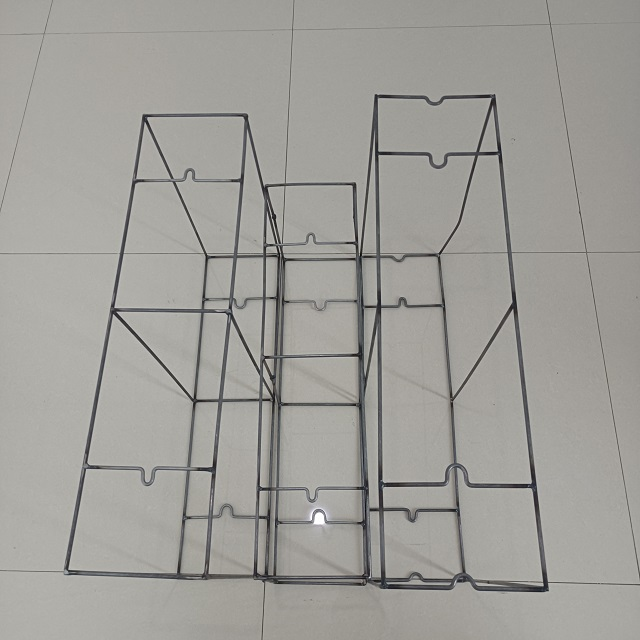curvedhole: (431, 460, 495, 491), (123, 457, 180, 491), (413, 142, 465, 171), (439, 569, 486, 600), (408, 86, 459, 114), (295, 504, 342, 532), (293, 474, 329, 506), (168, 162, 209, 190), (304, 292, 343, 319), (383, 288, 423, 314), (399, 501, 431, 528), (210, 502, 246, 524), (288, 226, 327, 246), (381, 246, 419, 266), (401, 565, 435, 586), (219, 290, 254, 310)
